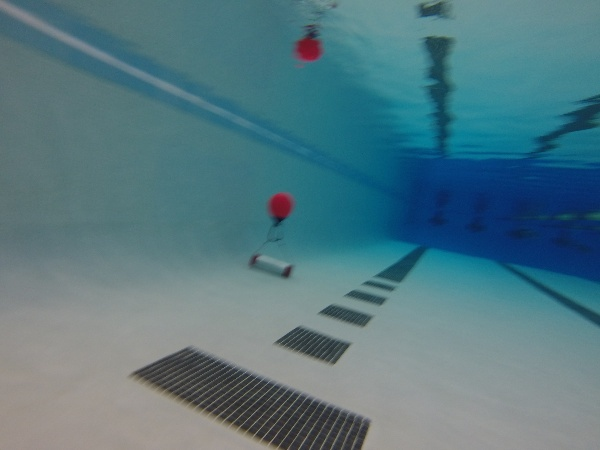buoy_red: (267, 190, 294, 228)
